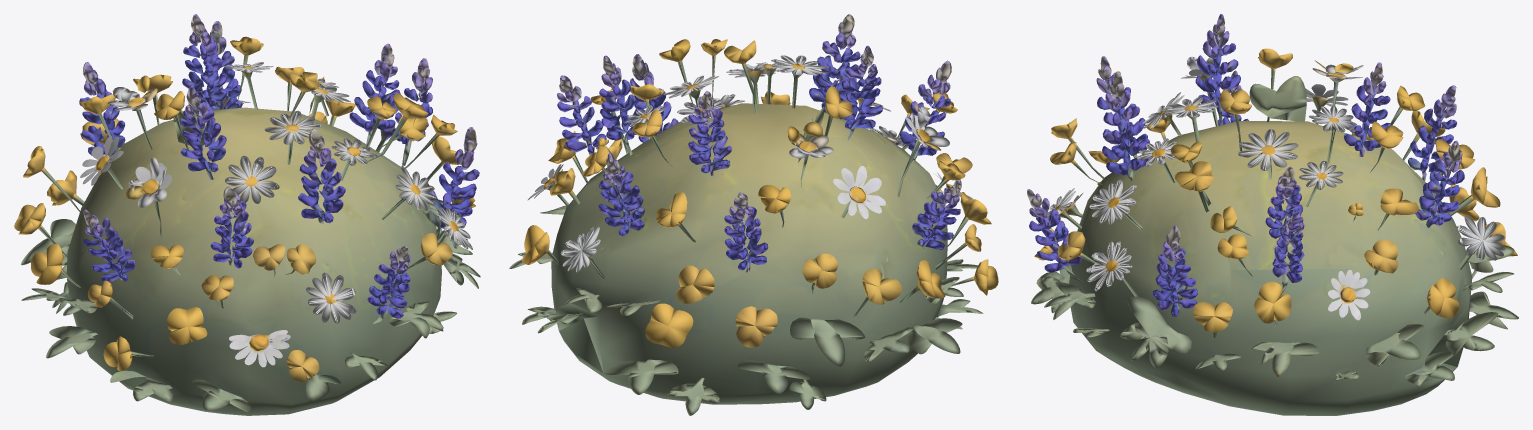
3 views of the same model, side by side, from view 1: azimuth 30°, elevation 25°; view 2: azimuth 150°, elevation 25°; view 3: azimuth 270°, elevation 25° (orthographic).
Visible parts, largest first — view 1: tripo_node_bd7f8159; view 2: tripo_node_bd7f8159; view 3: tripo_node_bd7f8159.
Boxes of the visible parts, <box> form: tripo_node_bd7f8159: <box>14,14,480,415</box>; tripo_node_bd7f8159: <box>509,14,998,415</box>; tripo_node_bd7f8159: <box>1027,14,1518,415</box>.
Size of the model in its own units: 0.9731 by 0.73 by 0.9995.
Materials: 1 (1 with a texture image).
